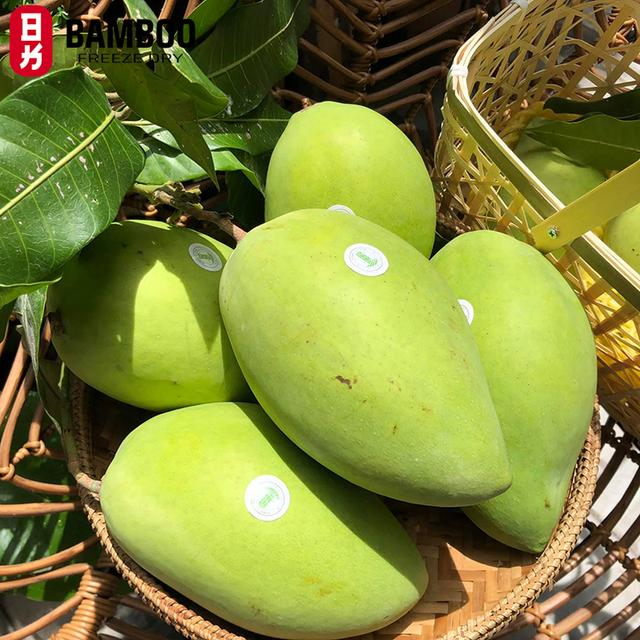xoai: (219, 209, 512, 506), (98, 402, 428, 639), (431, 230, 597, 557), (46, 216, 251, 406), (260, 99, 436, 264)
